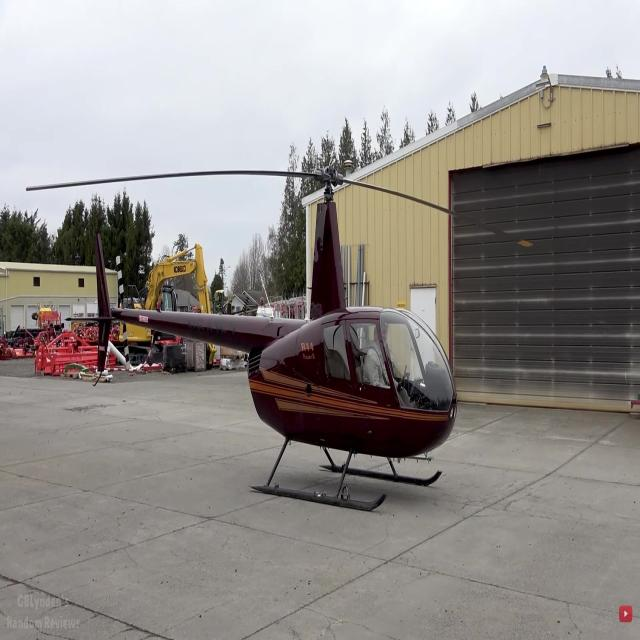CIV_HELO: (63, 168, 458, 514)
